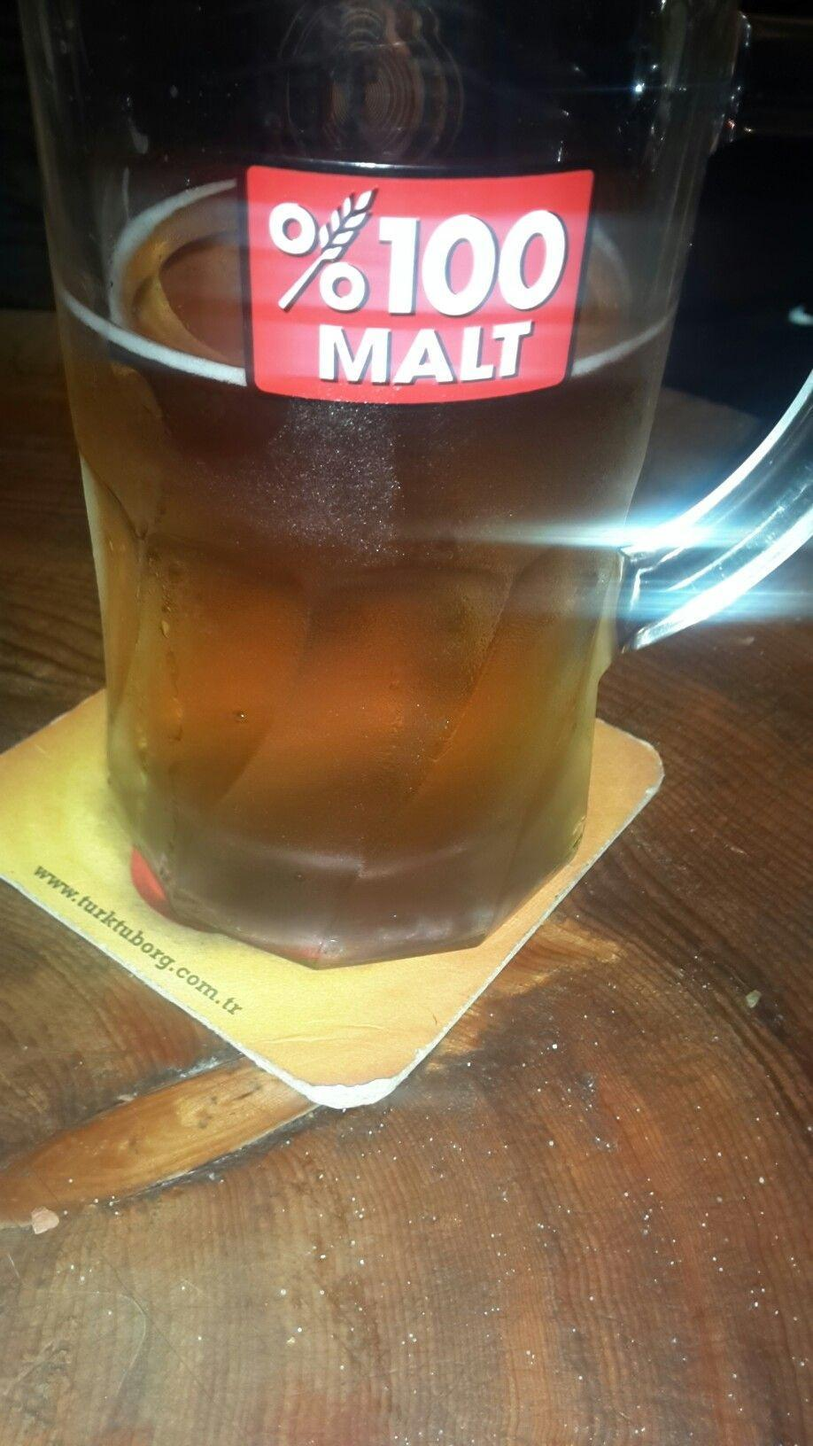glass-mug: (17, 0, 813, 997)
